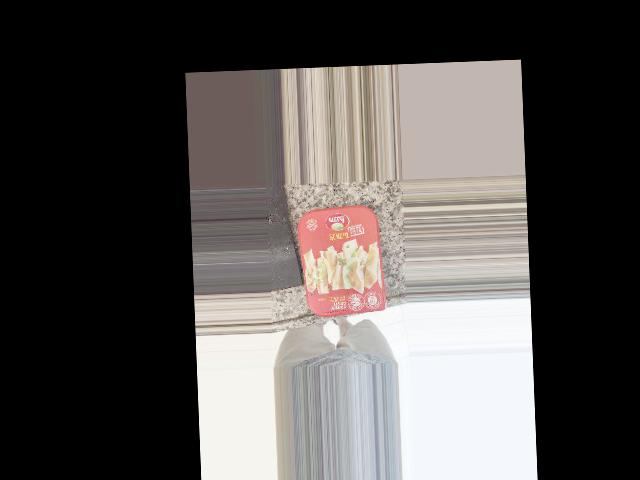cheese: (285, 227, 377, 340)
